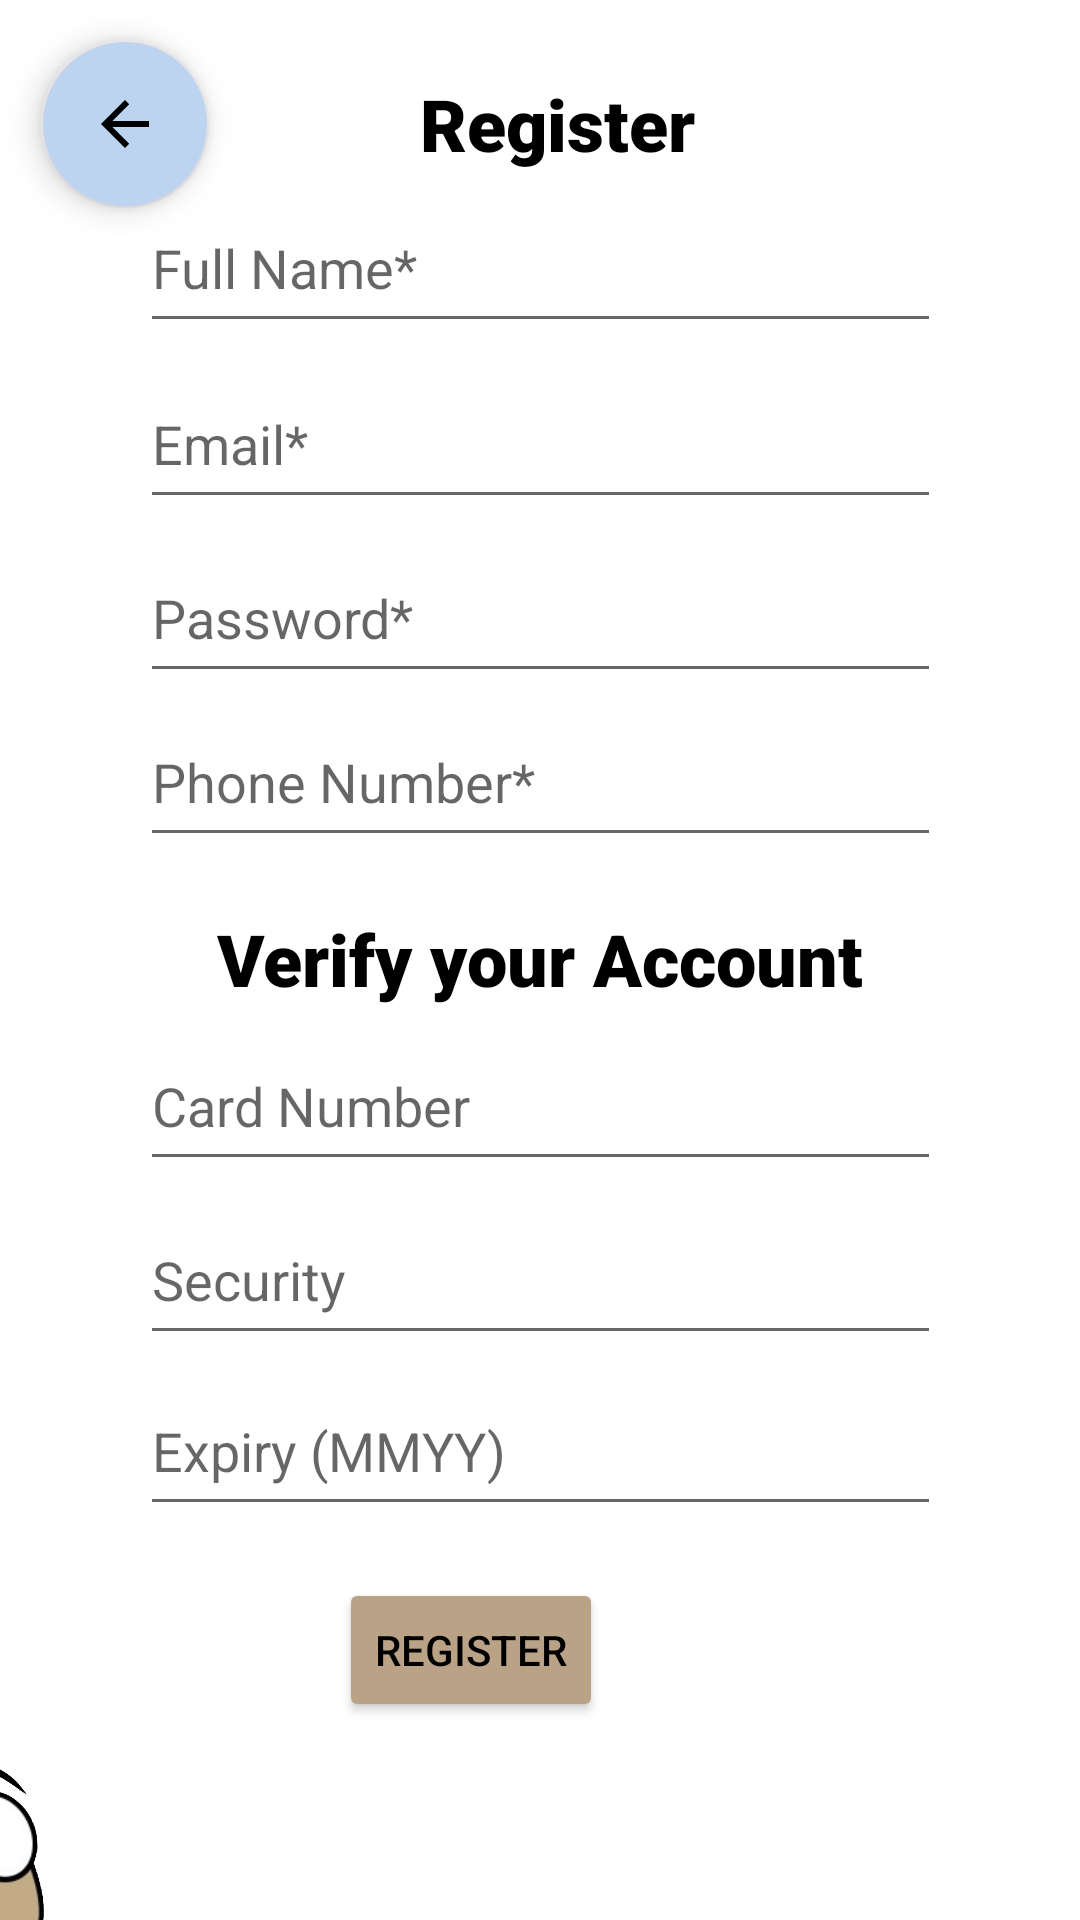

Icons on this 1080x1920 Android screen, each with the point to tap as [x,y]:
Back Button: [125,125]
